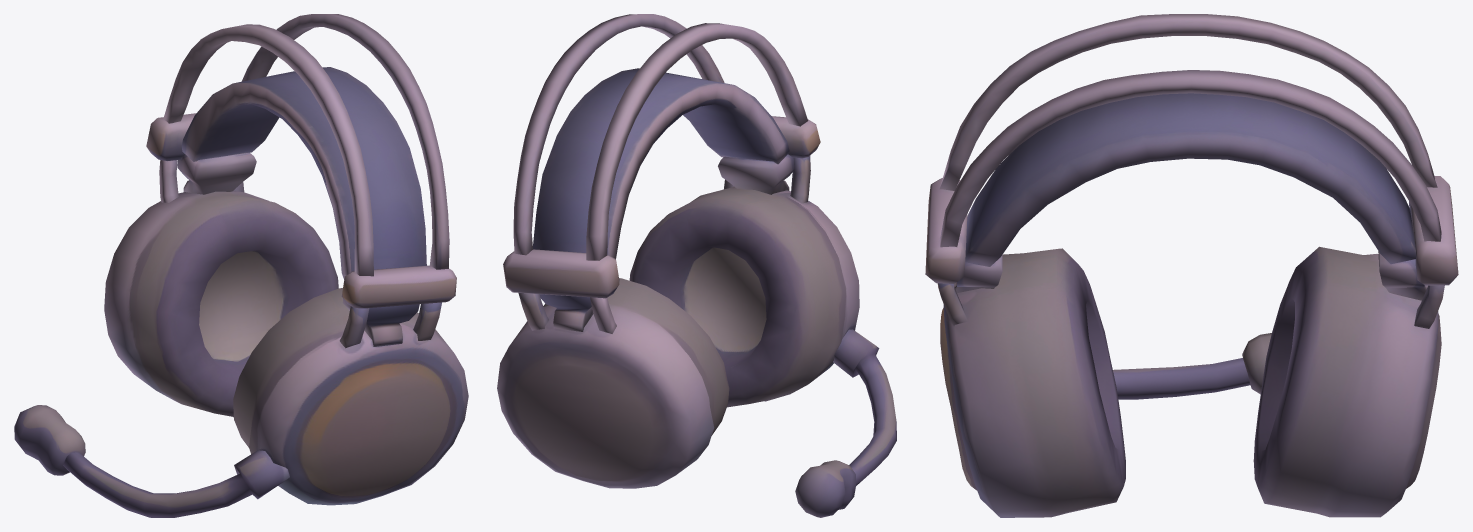
File: gaming_headset_3d_model.fbx
The picture shows the model from 3 angles, left to right: view 1: azimuth 30°, elevation 25°; view 2: azimuth 150°, elevation 25°; view 3: azimuth 270°, elevation 25°; orthographic projection. The views are drawn at different scales.
Parts seen in each view (by area): view 1: tripo_node_ed3edb3d-3490-4d42-8cd2-459b3f9ec776; view 2: tripo_node_ed3edb3d-3490-4d42-8cd2-459b3f9ec776; view 3: tripo_node_ed3edb3d-3490-4d42-8cd2-459b3f9ec776.
Boxes of the visible parts, <box> form: tripo_node_ed3edb3d-3490-4d42-8cd2-459b3f9ec776: <box>14,14,468,517</box>; tripo_node_ed3edb3d-3490-4d42-8cd2-459b3f9ec776: <box>497,14,896,517</box>; tripo_node_ed3edb3d-3490-4d42-8cd2-459b3f9ec776: <box>925,14,1458,517</box>.
Size of the model in its own units: 0.8105 by 0.998 by 0.9863.
